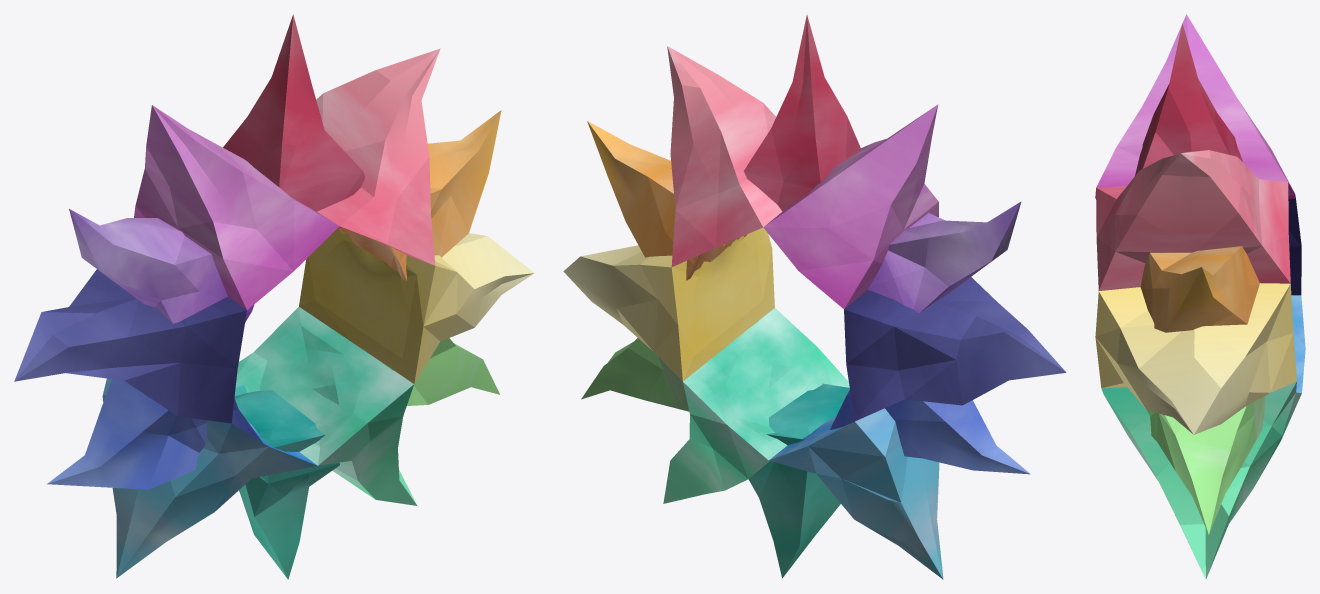
File: masterShardFull.fbx
3 views of the same model, side by side, from view 1: azimuth 30°, elevation 25°; view 2: azimuth 150°, elevation 25°; view 3: azimuth 270°, elevation 25° (orthographic). The views are drawn at different scales.
Visible parts, largest first — view 1: MasterShard1; view 2: MasterShard1; view 3: MasterShard1.
Boxes of the visible parts, bbox=[...] form: MasterShard1: bbox=[14, 14, 534, 579]; MasterShard1: bbox=[563, 15, 1066, 579]; MasterShard1: bbox=[1095, 14, 1305, 579].
Bounding box in the file's own units: 8.53 × 9.04 × 3.21.
Materials: 12 (12 with a texture image).
